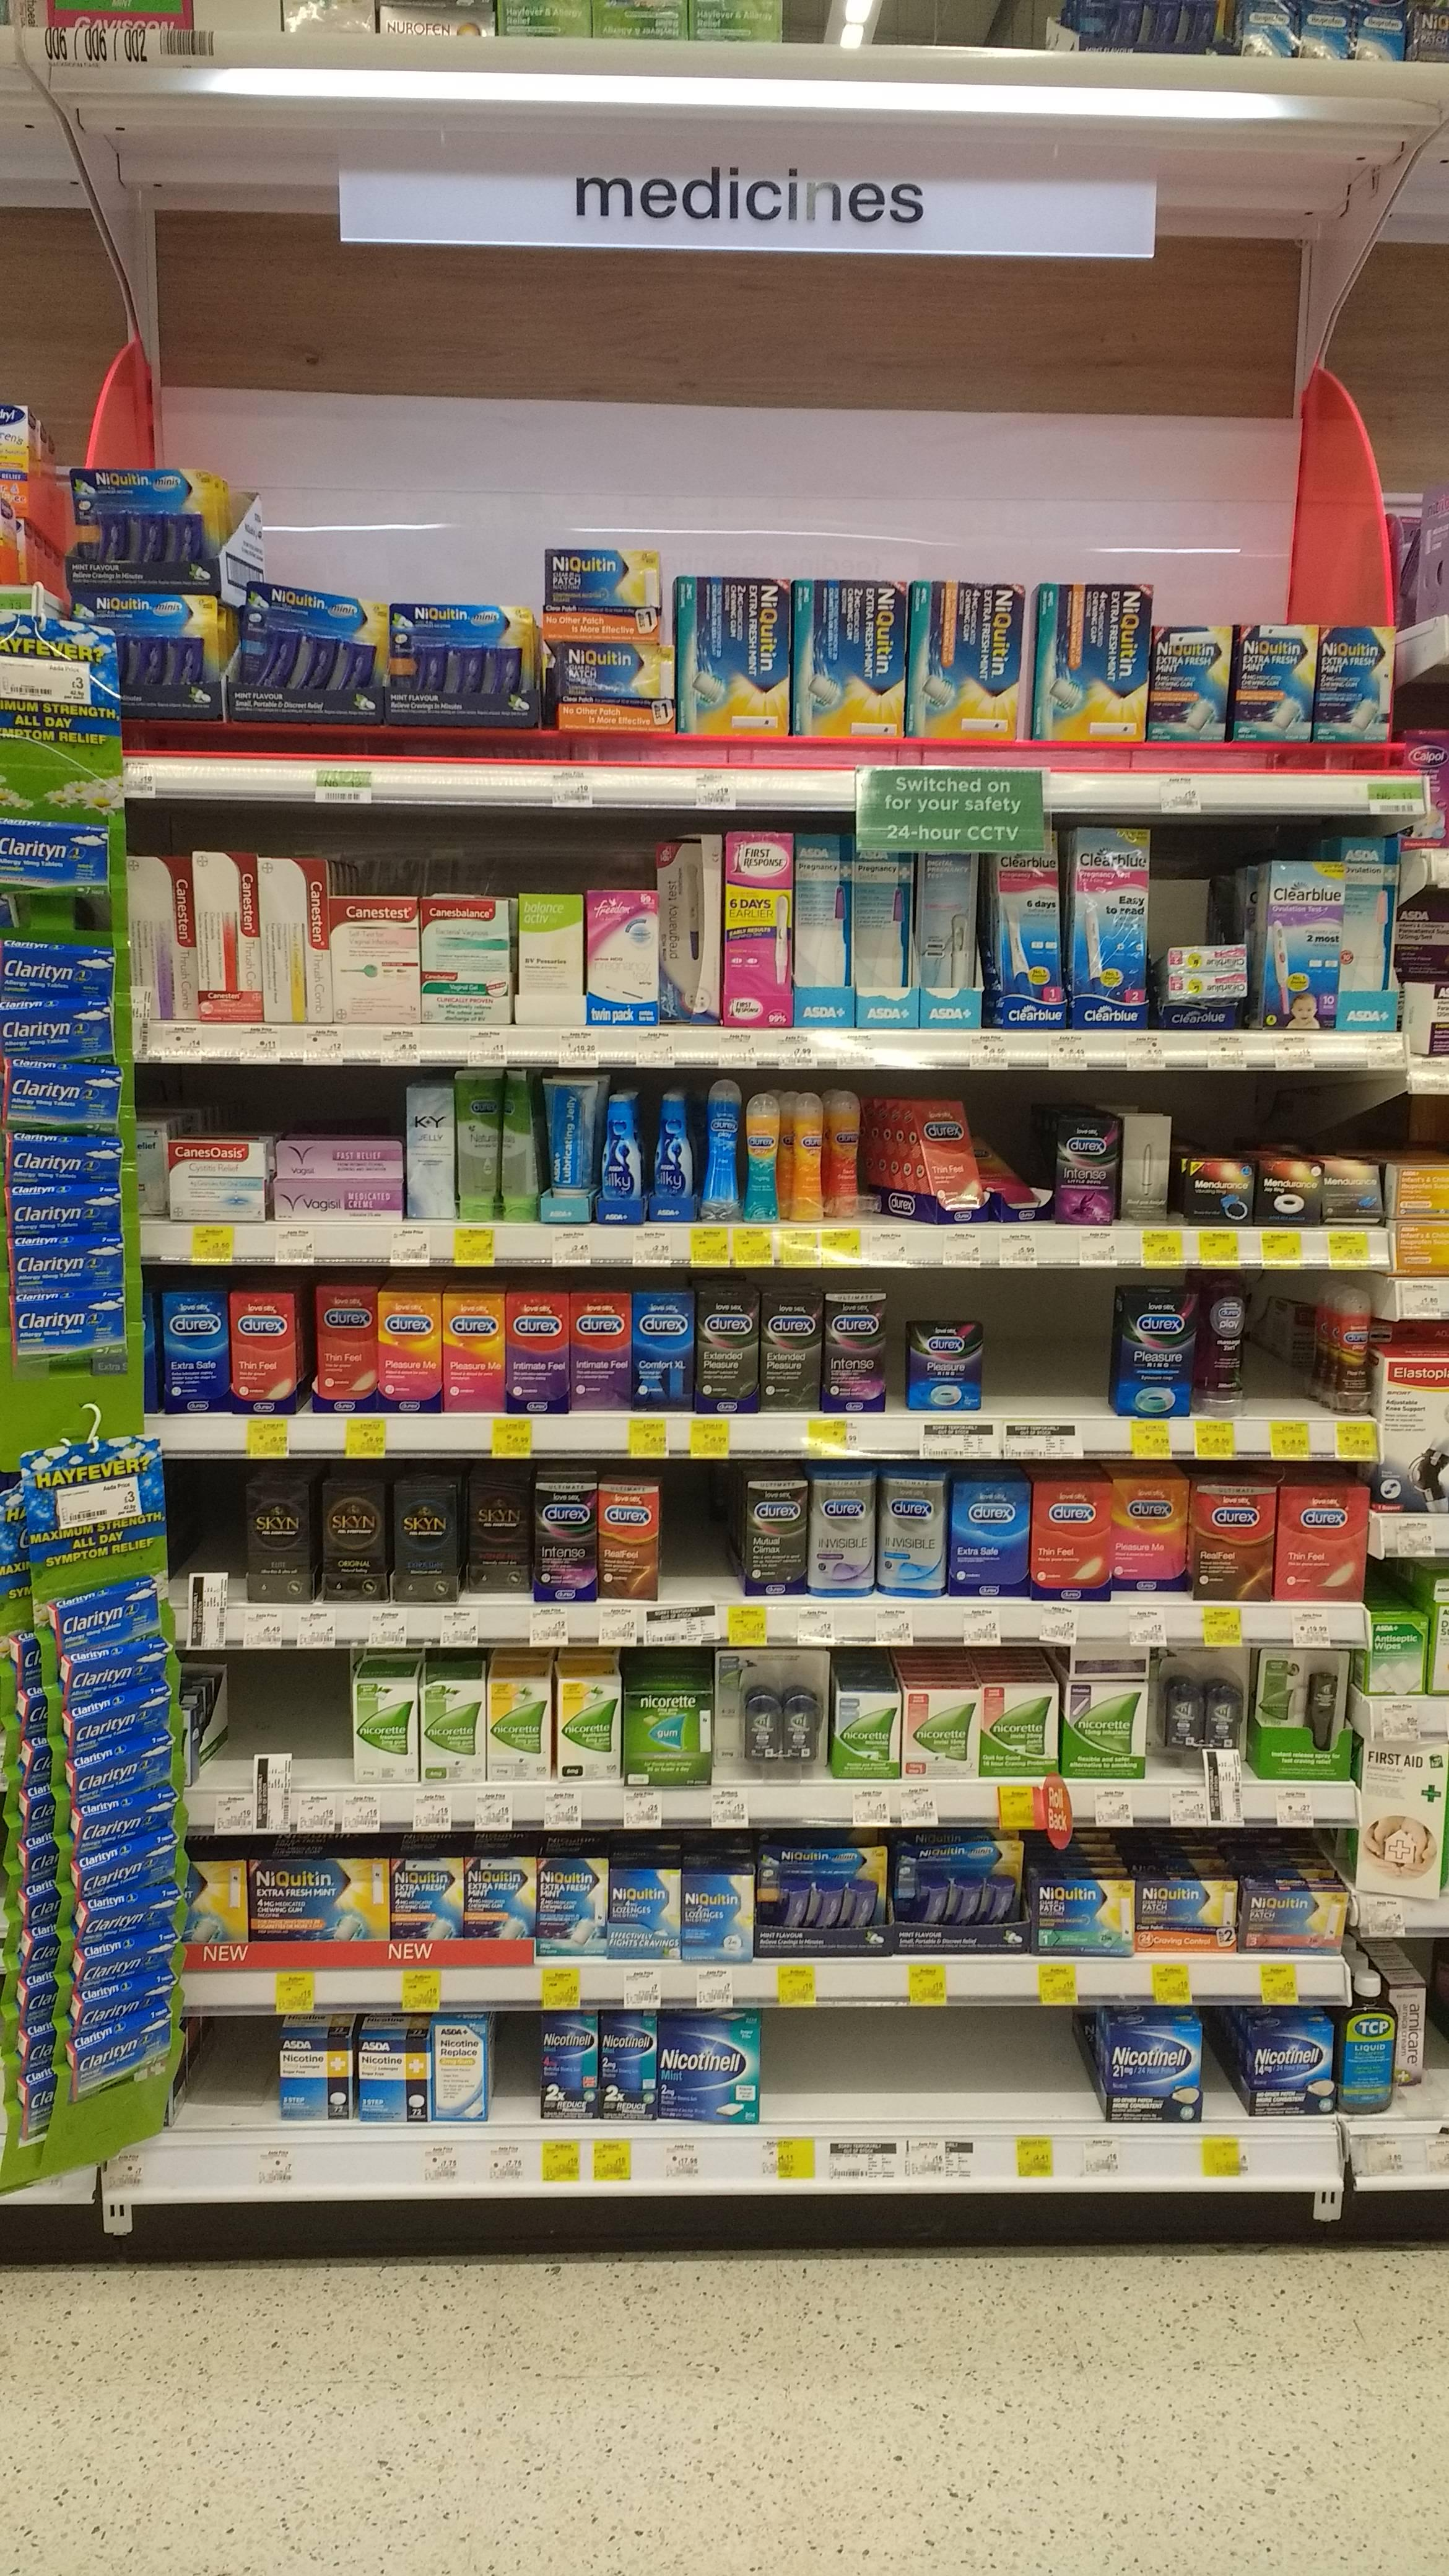empty: (775, 2022, 1081, 2112), (998, 1290, 1102, 1405), (241, 1665, 345, 1775), (1251, 1299, 1306, 1412), (669, 1474, 725, 1582), (180, 1479, 235, 1587), (198, 2031, 269, 2109), (501, 2024, 536, 2114), (1205, 2022, 1237, 2116)
misalignment: (869, 1093, 1046, 1221), (234, 580, 387, 706), (1154, 941, 1258, 1019), (497, 1072, 541, 1219)
